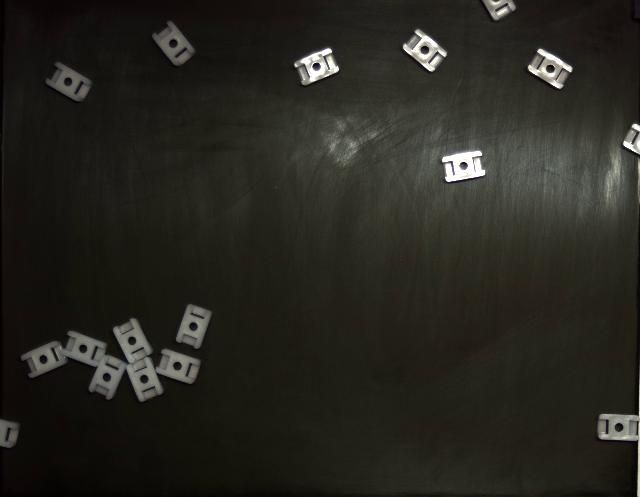second_side: (152, 21, 196, 66), (402, 29, 448, 72), (45, 62, 92, 102), (112, 319, 152, 364), (21, 341, 68, 379), (528, 49, 572, 89), (61, 331, 108, 368), (126, 358, 164, 402), (89, 355, 126, 400), (155, 349, 201, 385), (294, 49, 339, 85), (176, 305, 212, 349), (442, 151, 485, 182), (598, 414, 640, 441)
